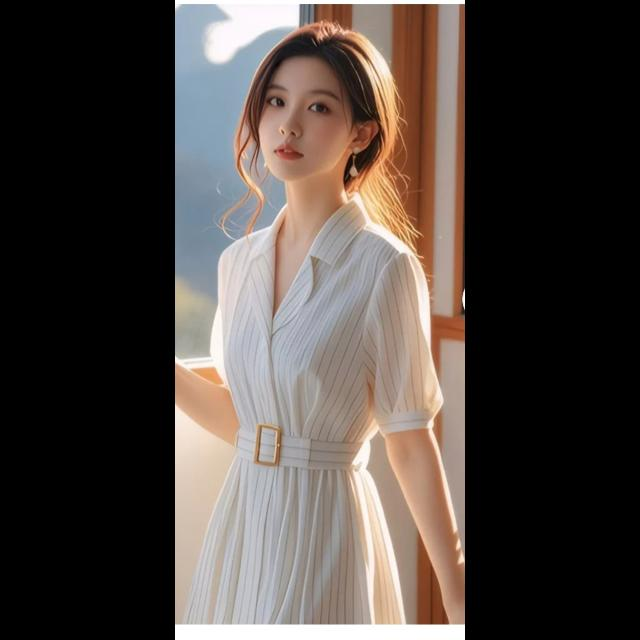dress: (208, 222, 430, 628)
